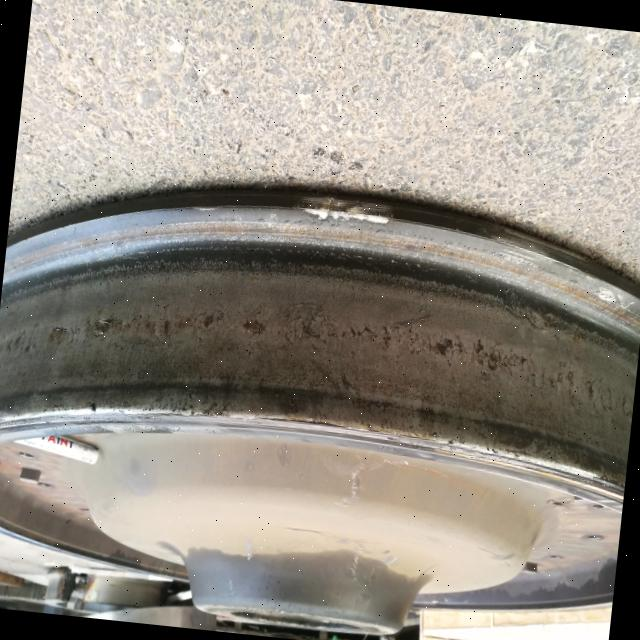Peeling: (434, 335, 527, 374), (543, 368, 615, 416), (299, 317, 380, 343), (130, 312, 173, 342), (92, 315, 114, 339), (204, 310, 227, 332), (242, 319, 268, 338), (48, 326, 68, 348)
